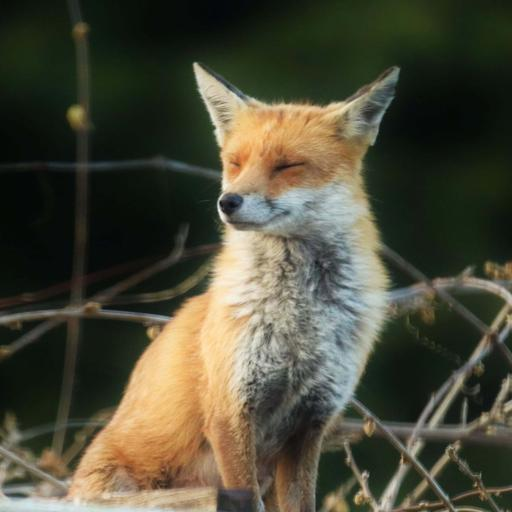Fox: (59, 62, 413, 509)
